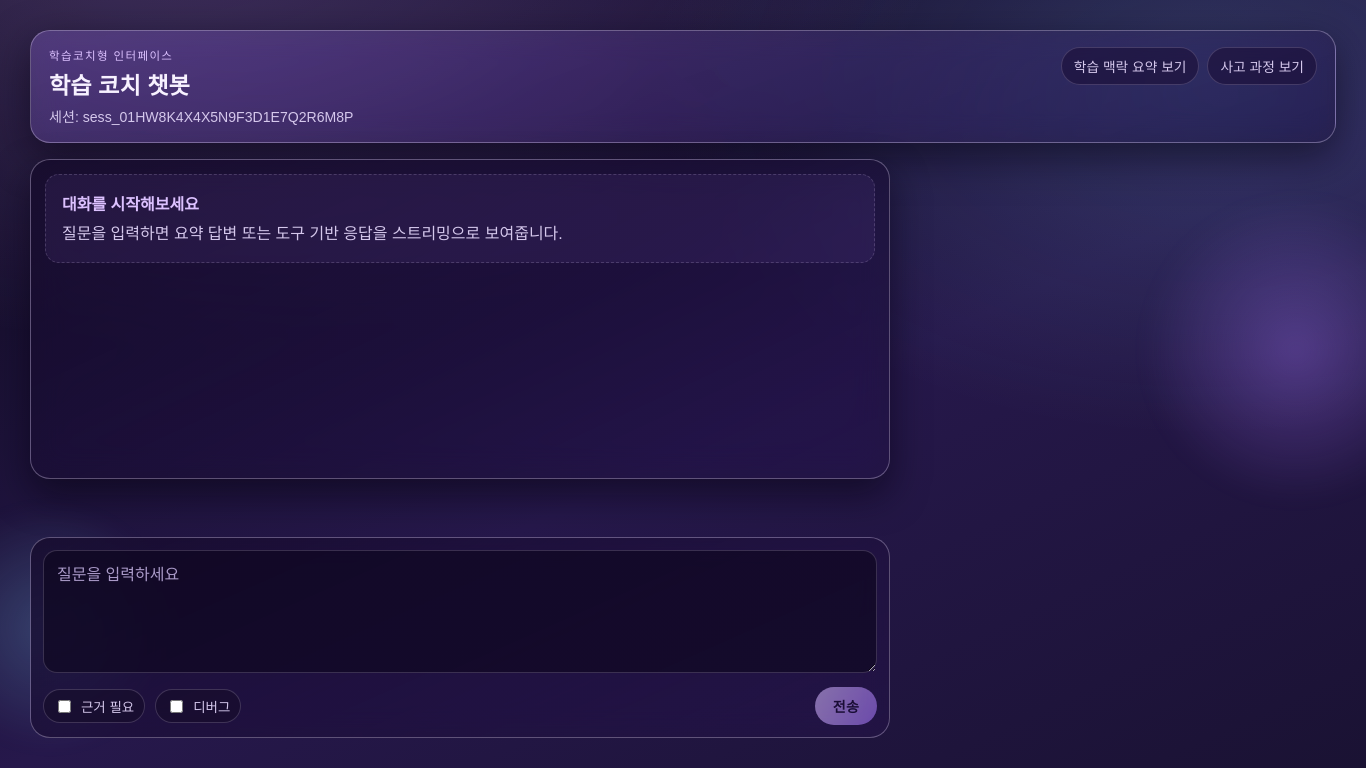
Test: UI /chat/[sessionId] › sends needsSources=true when checkbox is checked
The image size is (1366, 768).
Click the checkbox labelled "근거 필요" at (64, 706), box [58,700,71,713]
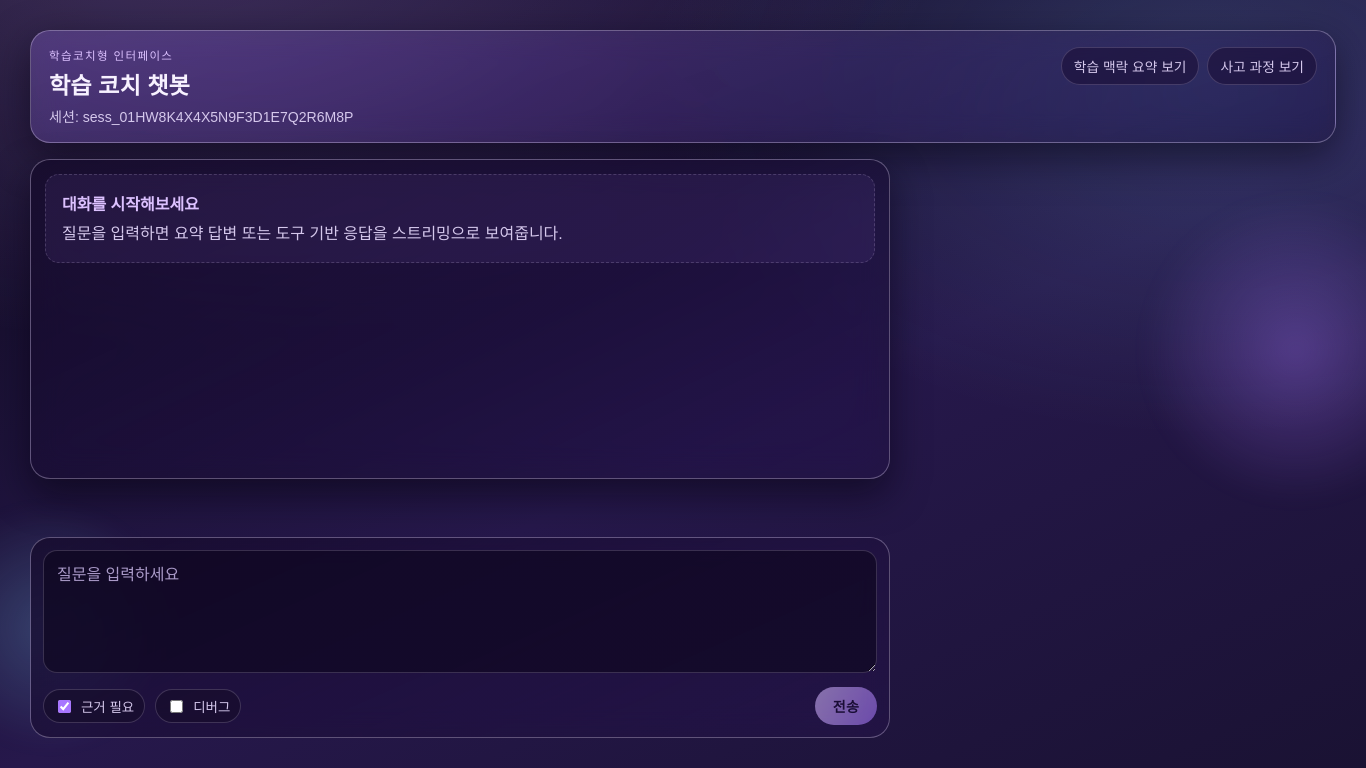
Type "출처 포함 답변" into the text box with placeholder "질문을 입력하세요" at (460, 612), box [43,550,877,673]
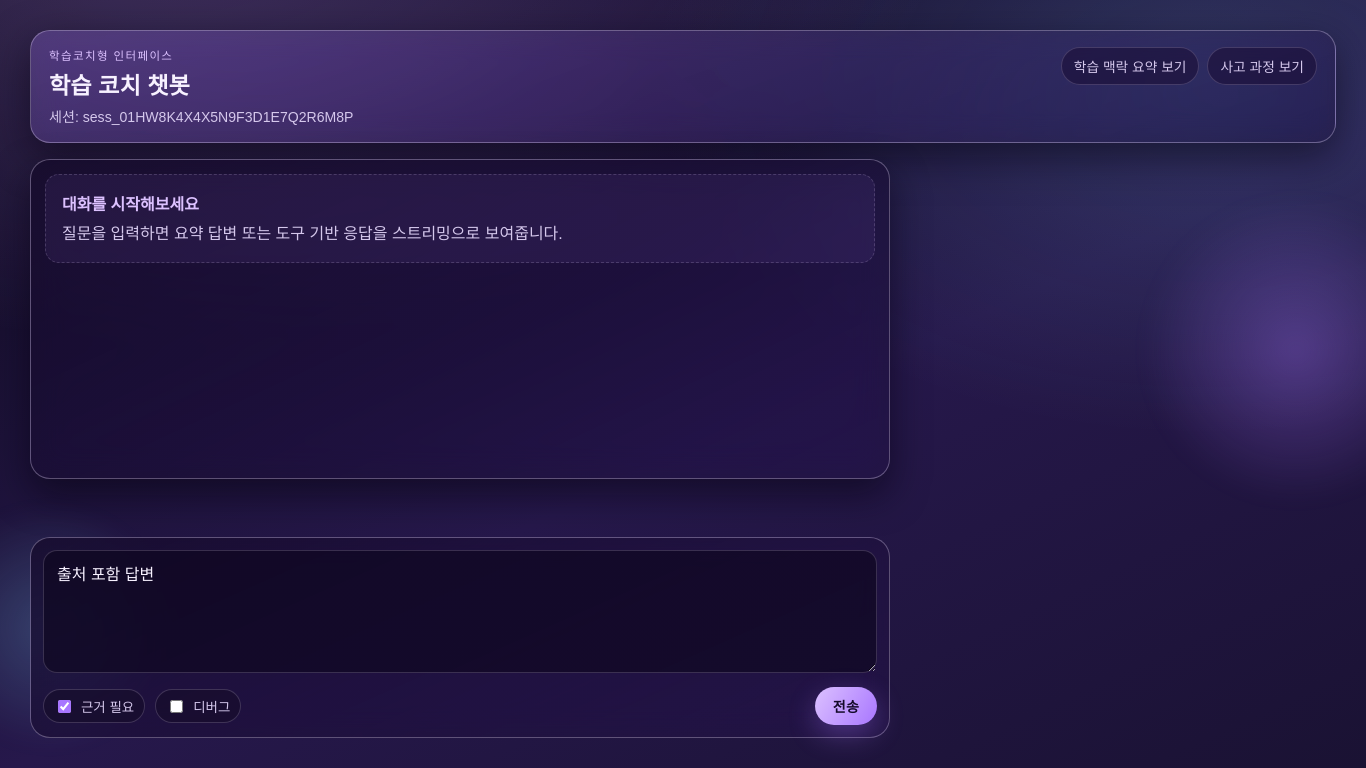
Click the button "전송" at (846, 706), box [815,687,877,725]
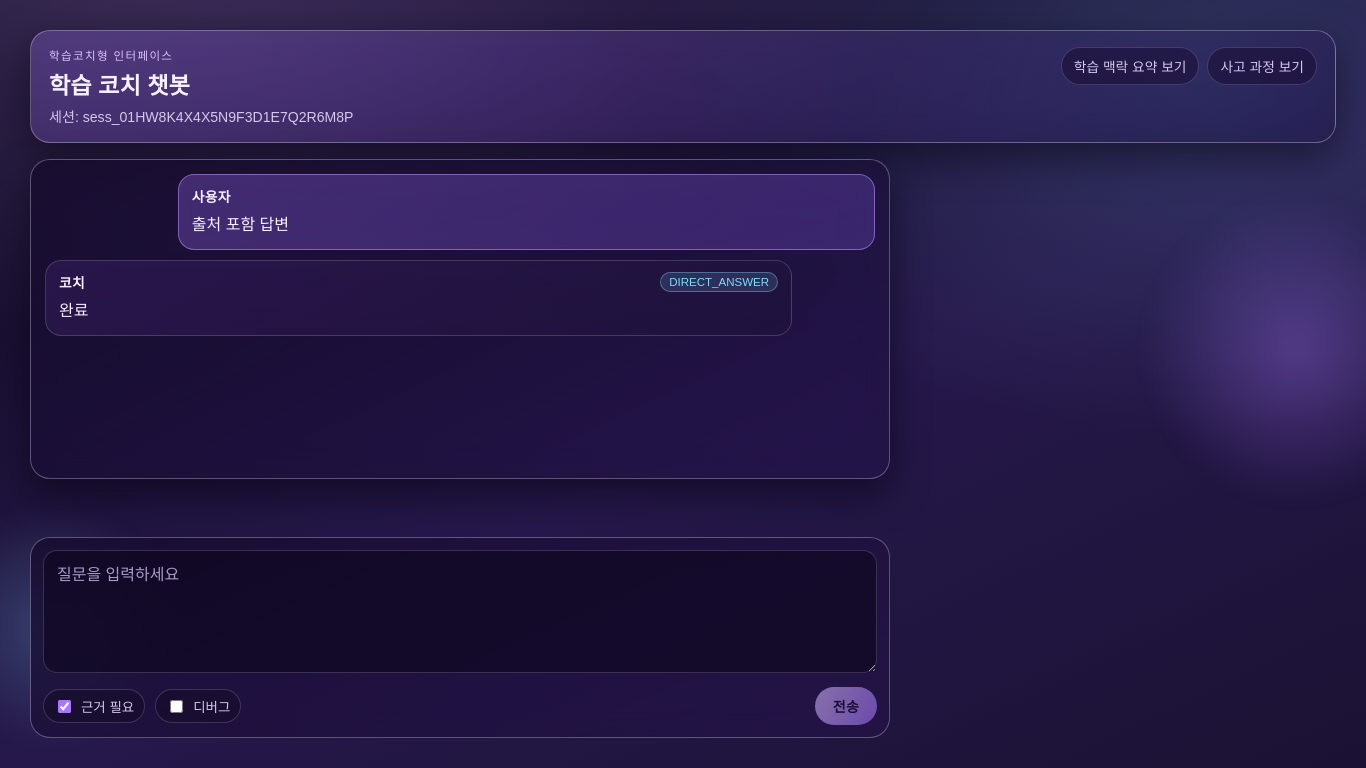
Check: the text "완료" is shown, box [59,302,88,319]
